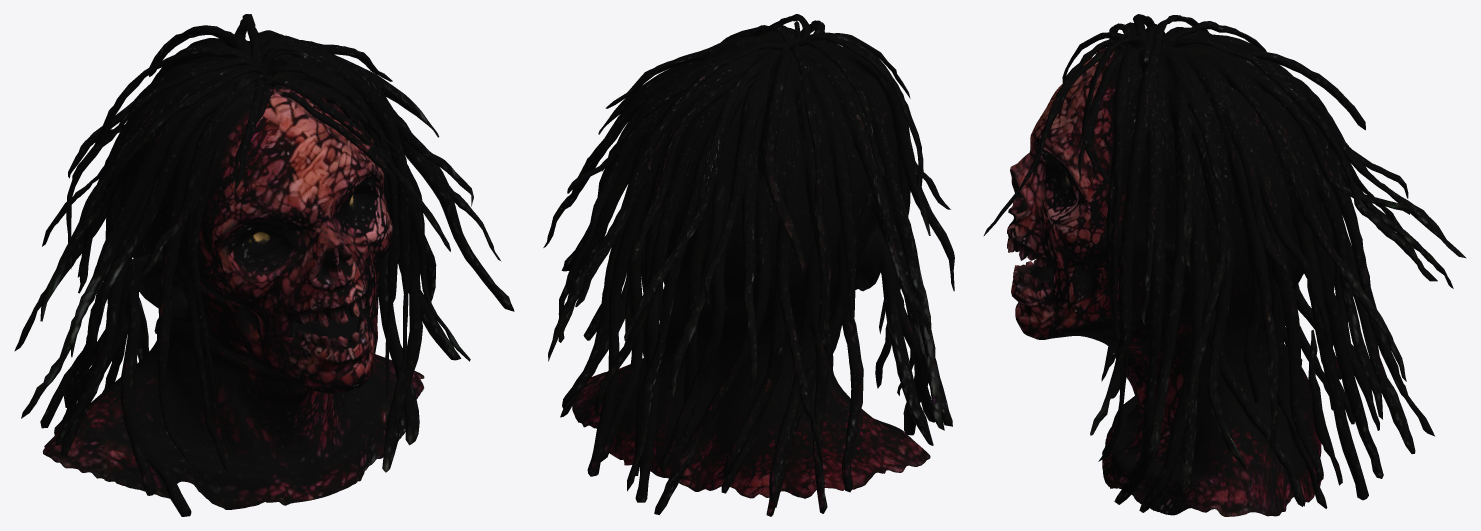
File: zombie.glb
The picture shows the model from 3 angles, left to right: view 1: azimuth 30°, elevation 25°; view 2: azimuth 150°, elevation 25°; view 3: azimuth 270°, elevation 25°; orthographic projection. The views are drawn at different scales.
Visible parts, largest first — view 1: tripo_node_0fefae3b-4552-4bac-88e9-f29fc035d3d2; view 2: tripo_node_0fefae3b-4552-4bac-88e9-f29fc035d3d2; view 3: tripo_node_0fefae3b-4552-4bac-88e9-f29fc035d3d2.
Boxes of the visible parts, <box> form: tripo_node_0fefae3b-4552-4bac-88e9-f29fc035d3d2: <box>14,14,514,516</box>; tripo_node_0fefae3b-4552-4bac-88e9-f29fc035d3d2: <box>543,14,954,516</box>; tripo_node_0fefae3b-4552-4bac-88e9-f29fc035d3d2: <box>983,14,1466,516</box>.
Size of the model in its own units: 0.9858 by 0.9051 by 0.929.
1 material, 1 textured.
